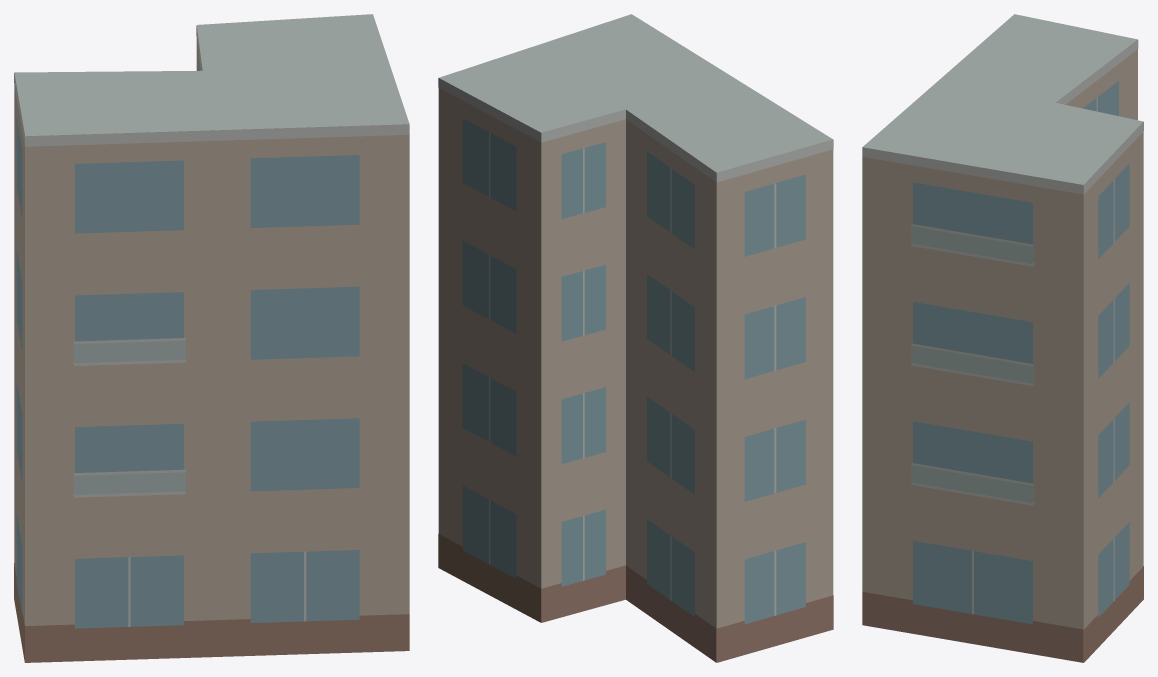
Rendered from survey-upis-32970042.glb.
The picture shows the model from 3 angles, left to right: view 1: azimuth 30°, elevation 25°; view 2: azimuth 150°, elevation 25°; view 3: azimuth 270°, elevation 25°; orthographic projection. The views are drawn at different scales.
Visible parts, largest first — view 1: survey-upis-32970042.tmp; view 2: survey-upis-32970042.tmp; view 3: survey-upis-32970042.tmp.
Boxes of the visible parts, x1,y1,x2,y2 form: survey-upis-32970042.tmp: (14, 14, 409, 662); survey-upis-32970042.tmp: (438, 14, 833, 662); survey-upis-32970042.tmp: (862, 14, 1143, 662).
Size of the model in its own units: 9.37 by 12.2 by 6.52.
